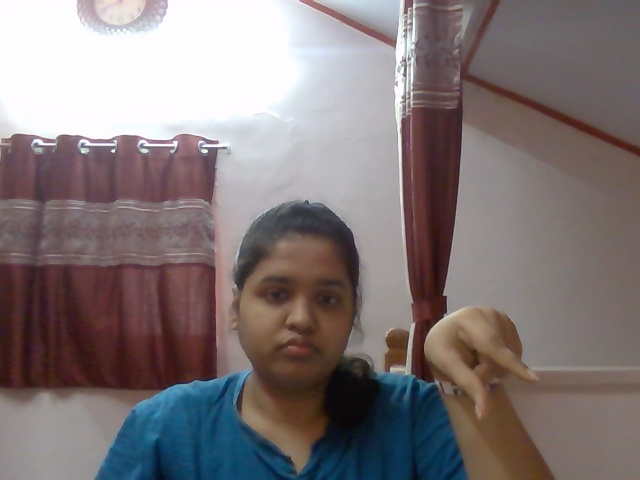q: (407, 291, 559, 431)
